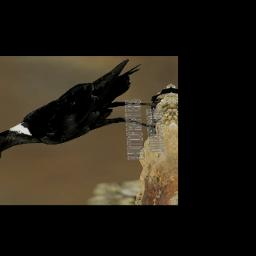Crow: (0, 59, 168, 162)
